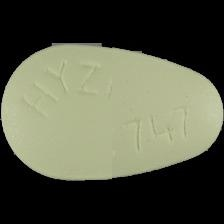21695-788: (0, 0, 224, 224)
